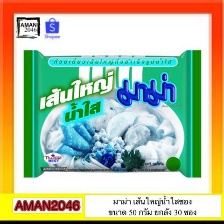snack: (18, 43, 206, 183)
